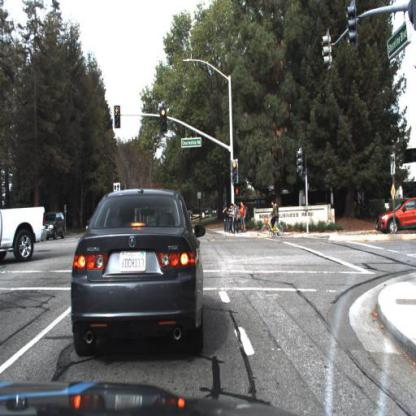biker: (259, 201, 286, 242), (268, 202, 283, 240)
car: (71, 187, 206, 357), (1, 204, 48, 265), (377, 198, 416, 235), (35, 211, 68, 240)
pedestrian: (231, 199, 241, 239), (236, 200, 245, 234), (224, 207, 230, 234)
trafficLight-Red: (231, 158, 239, 184), (160, 107, 167, 134)
trafficLight-RedLeft: (114, 103, 122, 128)
